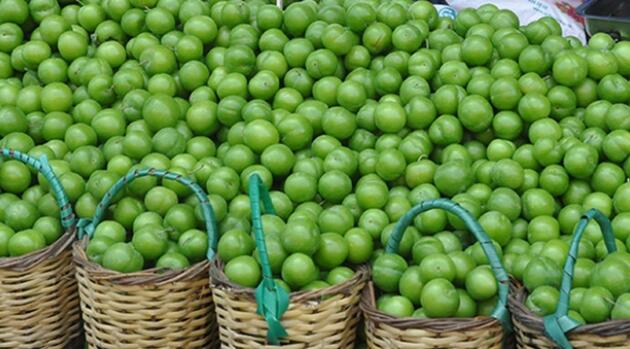Plum: (461, 95, 489, 135), (283, 222, 316, 254), (305, 50, 337, 76), (375, 104, 402, 131)
